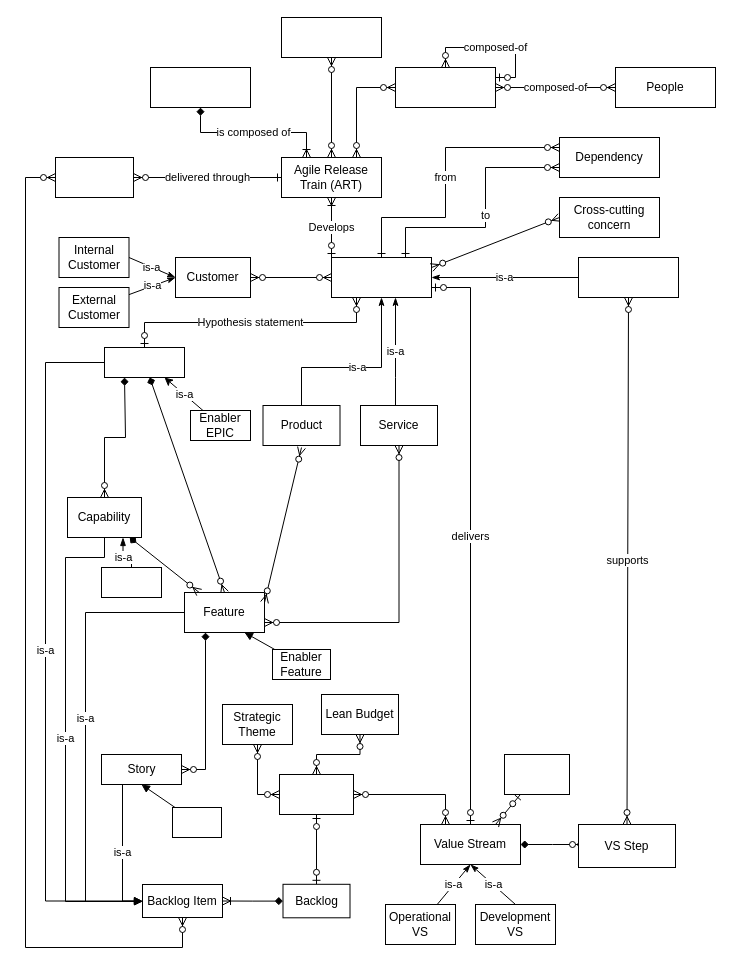
Image size: 733x974. Some labels were removed from this diagram. The shapes that lost their labels are listed below. From the top down, each one's box as (x1, y1, x2, y2) in pixels, then its label:
(280, 16, 382, 58): Asset
(150, 66, 250, 108): Solution Train
(394, 66, 496, 108): Team
(54, 156, 134, 198): Program Increment
(330, 256, 432, 298): Solution
(578, 256, 678, 298): System
(104, 346, 184, 378): EPIC
(100, 566, 162, 598): Enabling Capability
(278, 774, 354, 814): Portfolio
(504, 754, 570, 794): Trigger
(172, 806, 222, 838): Enabler Story
